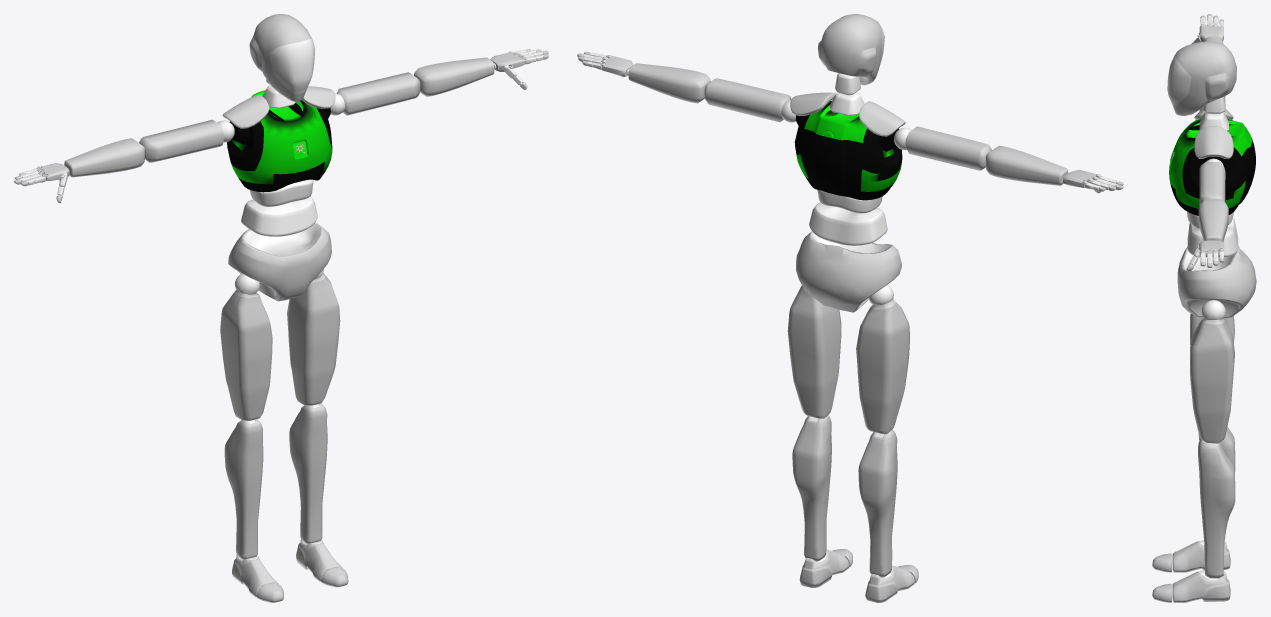
Rendered from PNStudio_Avatar_ThumbOpen.fbx.
3 renders of one model, left to right at view 1: azimuth 30°, elevation 25°; view 2: azimuth 150°, elevation 25°; view 3: azimuth 270°, elevation 25°, orthographic. The views are drawn at different scales.
Visible parts, largest first — view 1: SM_Spine6, SM_RightUpLeg, SM_LeftUpLeg, SM_Hips, SM_Head, SM_LeftLeg, SM_RightLeg, SM_RightArm, SM_LeftArm, SM_Spine, SM_RightForeArm, SM_LeftForeArm (+4 smaller); view 2: SM_Spine6, SM_RightUpLeg, SM_Hips, SM_LeftUpLeg, SM_LeftLeg, SM_RightLeg, SM_Head, SM_RightArm, SM_LeftArm, SM_Spine, SM_RightForeArm, SM_LeftForeArm (+5 smaller); view 3: SM_LeftUpLeg, SM_Spine6, SM_Head, SM_Hips, SM_LeftLeg, SM_LeftFoot, SM_LeftForeArm, SM_LeftShoulder, SM_LeftArm, SM_RightFoot, SM_Spine, SM_Neck (+8 smaller).
Boxes of the visible parts, <box> form: SM_Spine6: <box>227,90,332,192</box>; SM_RightUpLeg: <box>220,273,272,420</box>; SM_LeftUpLeg: <box>287,269,340,405</box>; SM_Hips: <box>228,223,331,301</box>; SM_Head: <box>249,14,315,101</box>; SM_LeftLeg: <box>289,403,327,543</box>; SM_RightLeg: <box>224,419,263,559</box>; SM_RightArm: <box>139,119,234,162</box>; SM_LeftArm: <box>330,72,420,115</box>; SM_Spine: <box>241,196,317,236</box>; SM_RightForeArm: <box>64,138,144,177</box>; SM_LeftForeArm: <box>414,57,494,96</box>; SM_Spine6: <box>794,101,902,200</box>; SM_RightUpLeg: <box>856,284,909,434</box>; SM_Hips: <box>796,231,901,312</box>; SM_LeftUpLeg: <box>787,285,841,418</box>; SM_LeftLeg: <box>792,415,831,561</box>; SM_RightLeg: <box>858,430,897,577</box>; SM_Head: <box>818,14,884,85</box>; SM_RightArm: <box>894,126,991,170</box>; SM_LeftArm: <box>704,78,795,122</box>; SM_Spine: <box>809,202,887,245</box>; SM_RightForeArm: <box>985,145,1068,185</box>; SM_LeftForeArm: <box>628,63,710,103</box>; SM_LeftUpLeg: <box>1190,300,1234,443</box>; SM_Spine6: <box>1169,118,1255,215</box>; SM_Head: <box>1167,41,1236,115</box>; SM_Hips: <box>1177,246,1256,317</box>; SM_LeftLeg: <box>1198,440,1235,578</box>; SM_LeftFoot: <box>1172,570,1230,602</box>; SM_LeftForeArm: <box>1198,199,1228,241</box>; SM_LeftShoulder: <box>1194,126,1233,158</box>; SM_LeftArm: <box>1199,158,1225,205</box>; SM_RightFoot: <box>1172,540,1230,572</box>; SM_Spine: <box>1187,218,1238,257</box>; SM_Neck: <box>1199,112,1228,130</box>.
Size of the model in its own units: 183 by 182 by 32.01.
